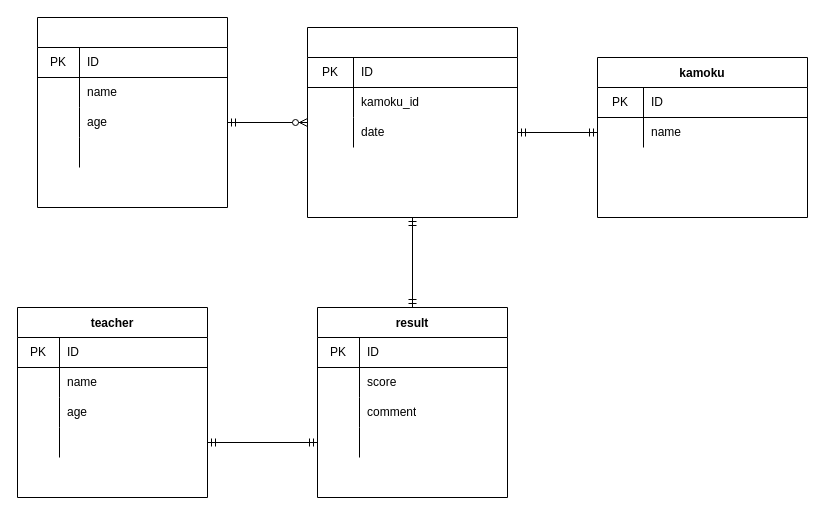
Some shapes in this 825 by 515 pixel diagram are drawn without their labels. Each missing label, with the box of its shape:
reserve: (306, 26, 518, 218)
student: (36, 16, 228, 208)
